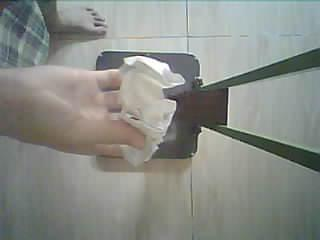paper: (120, 56, 186, 166)
